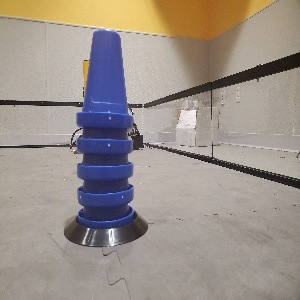Blue_5: (74, 26, 134, 228)
